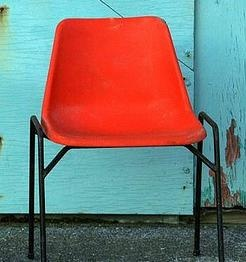obstacle: (28, 16, 223, 261)
